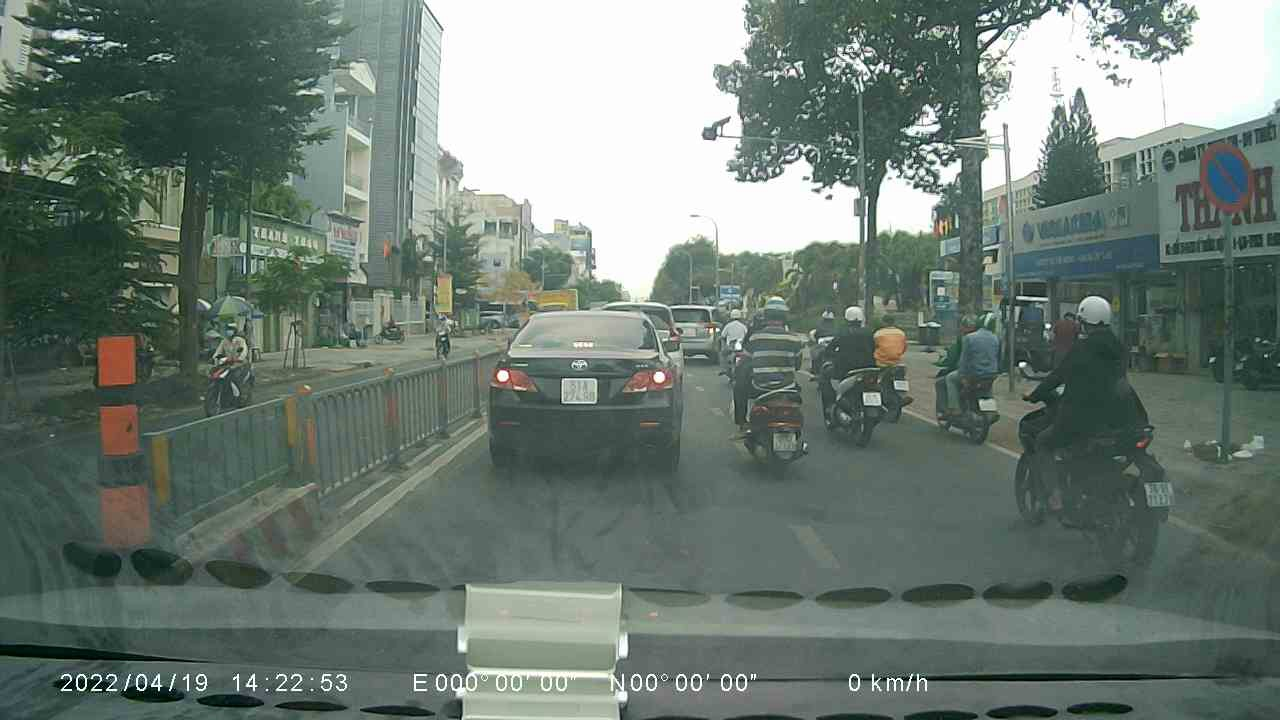Cam do xe: (1196, 138, 1255, 214)
